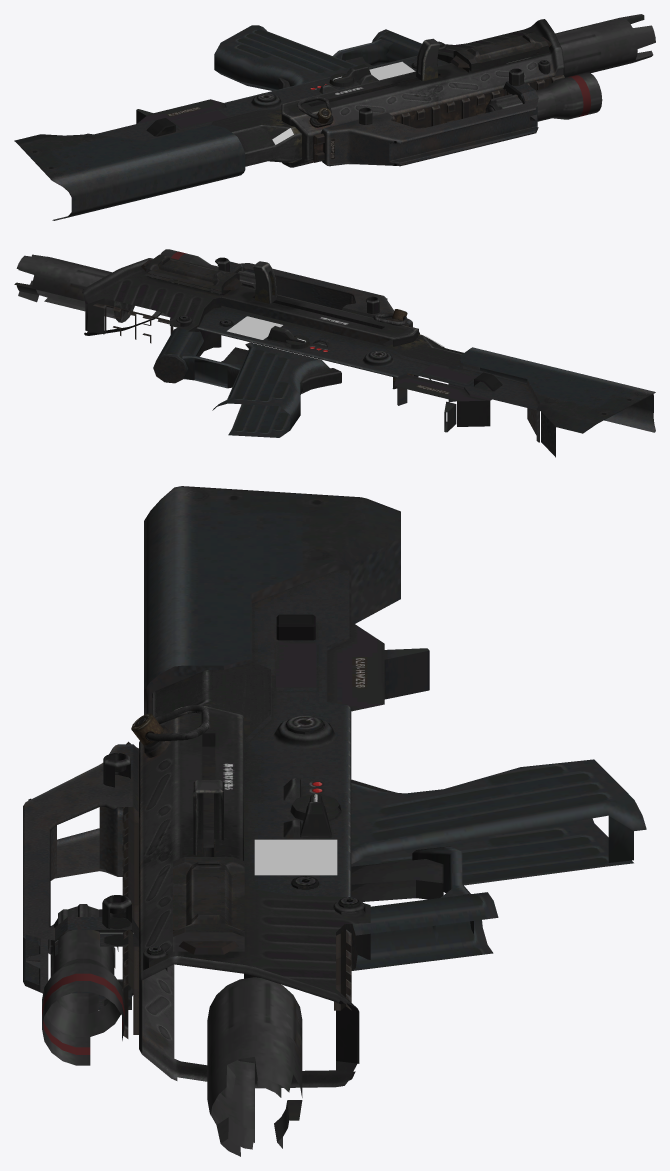
File: t6_wpn_smg_chicom_view_LOD0.obj
3 renders of one model, top to bottom at view 1: azimuth 30°, elevation 25°; view 2: azimuth 150°, elevation 25°; view 3: azimuth 270°, elevation 25°, orthographic. The views are drawn at different scales.
Visible parts, largest first — view 1: mtl_t6_wpn_smg_chicom_camo1, mtl_t6_wpn_smg_chicom_camo3, mtl_t6_wpn_smg_chicom_camo2, mtl_t6_wpn_smg_chicom_camo4, mtl_player_icon; view 2: mtl_t6_wpn_smg_chicom_camo1, mtl_t6_wpn_smg_chicom_camo3, mtl_t6_wpn_smg_chicom_camo2, mtl_player_icon; view 3: mtl_t6_wpn_smg_chicom_camo1, mtl_t6_wpn_smg_chicom_camo3, mtl_t6_wpn_smg_chicom_camo2, mtl_t6_wpn_smg_chicom_camo4, mtl_player_icon.
Boxes of the visible parts, bbox=[...] form: mtl_t6_wpn_smg_chicom_camo1: bbox=[14, 19, 564, 220]; mtl_t6_wpn_smg_chicom_camo3: bbox=[221, 17, 637, 162]; mtl_t6_wpn_smg_chicom_camo2: bbox=[95, 14, 655, 162]; mtl_t6_wpn_smg_chicom_camo4: bbox=[233, 56, 552, 167]; mtl_player_icon: bbox=[369, 61, 415, 80]; mtl_t6_wpn_smg_chicom_camo1: bbox=[82, 258, 655, 457]; mtl_t6_wpn_smg_chicom_camo3: bbox=[32, 249, 422, 437]; mtl_t6_wpn_smg_chicom_camo2: bbox=[14, 254, 538, 437]; mtl_player_icon: bbox=[227, 316, 282, 339]; mtl_t6_wpn_smg_chicom_camo1: bbox=[23, 486, 443, 1088]; mtl_t6_wpn_smg_chicom_camo3: bbox=[42, 702, 642, 1142]; mtl_t6_wpn_smg_chicom_camo2: bbox=[26, 570, 646, 1156]; mtl_t6_wpn_smg_chicom_camo4: bbox=[142, 670, 205, 1057]; mtl_player_icon: bbox=[254, 839, 337, 875].
Size of the model in its own units: 52.02 by 7.35 by 22.98.
